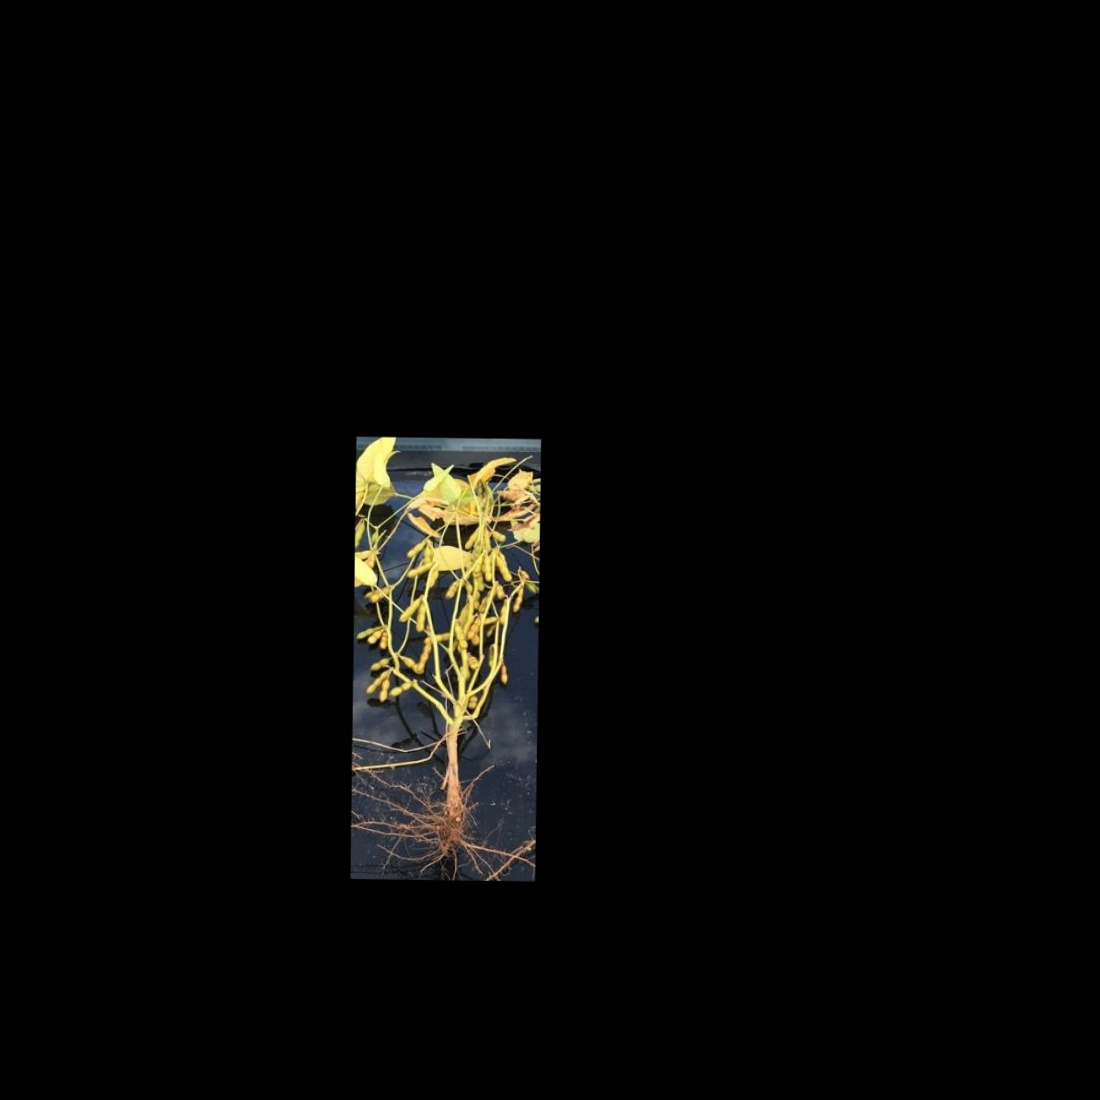pod: (415, 640, 434, 674), (494, 558, 513, 586), (422, 629, 454, 645), (389, 680, 417, 698), (414, 602, 429, 634), (405, 539, 427, 558), (425, 565, 441, 591), (378, 676, 393, 702), (443, 579, 461, 600), (368, 656, 390, 671), (499, 661, 510, 688), (490, 529, 507, 544), (380, 629, 391, 650)
soy: (359, 445, 537, 861)
